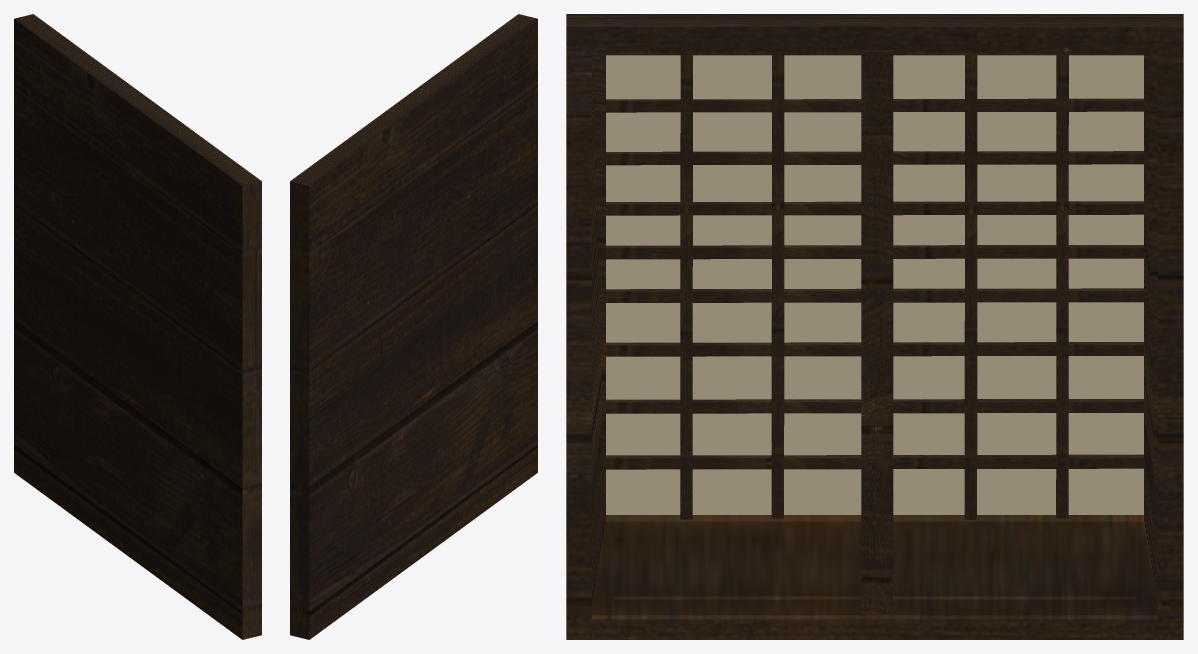
Rendered from Porta-Casa.fbx.
3 renders of one model, left to right at view 1: azimuth 30°, elevation 25°; view 2: azimuth 150°, elevation 25°; view 3: azimuth 270°, elevation 25°, orthographic. The views are drawn at different scales.
Parts seen in each view (by area): view 1: Cube; view 2: Cube; view 3: Cube, Cube.002, Cube.001.
Boxes of the visible parts, x1,y1,x2,y2 form: Cube: [14, 14, 261, 639]; Cube: [290, 14, 537, 639]; Cube: [566, 14, 1183, 639]; Cube.002: [606, 55, 1143, 519]; Cube.001: [861, 50, 893, 614].
Size of the model in its own units: 42.39 by 950 by 866.
Materials: 4 (3 with a texture image).
